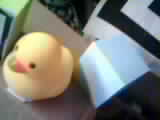duck: (8, 26, 82, 98)
